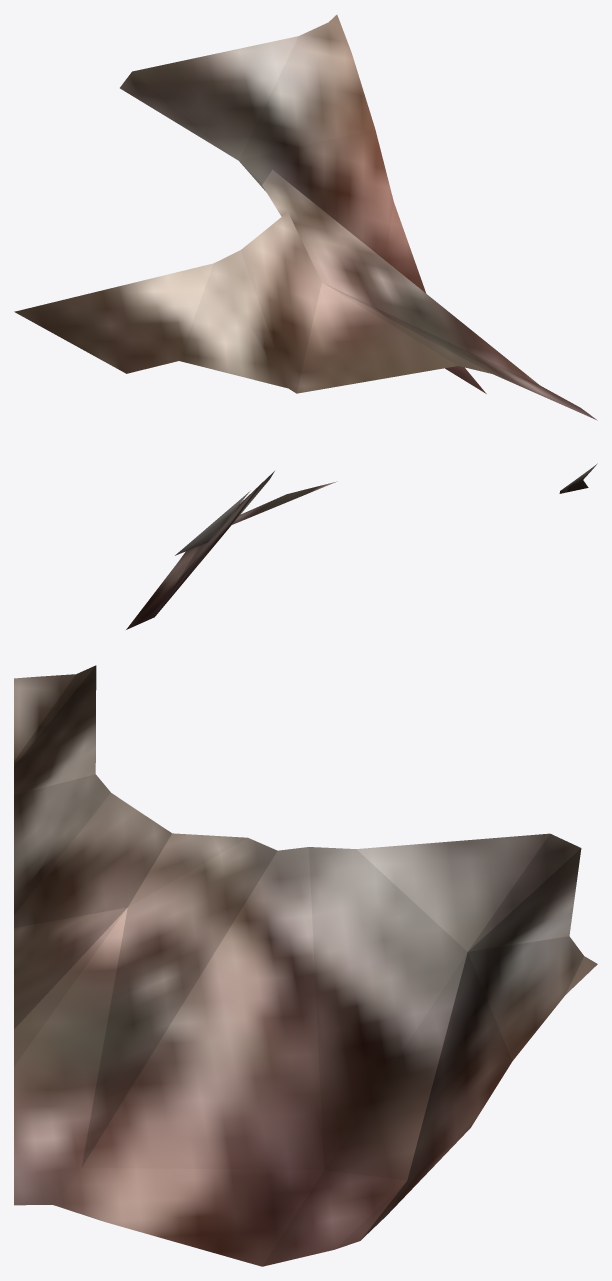
The picture shows the model from 3 angles, top to bottom: view 1: azimuth 30°, elevation 25°; view 2: azimuth 150°, elevation 25°; view 3: azimuth 270°, elevation 25°; orthographic projection. The views are drawn at different scales.
Bounding box in the file's own units: 0.2325 × 0.1098 × 0.192.
1 material, 1 textured.
